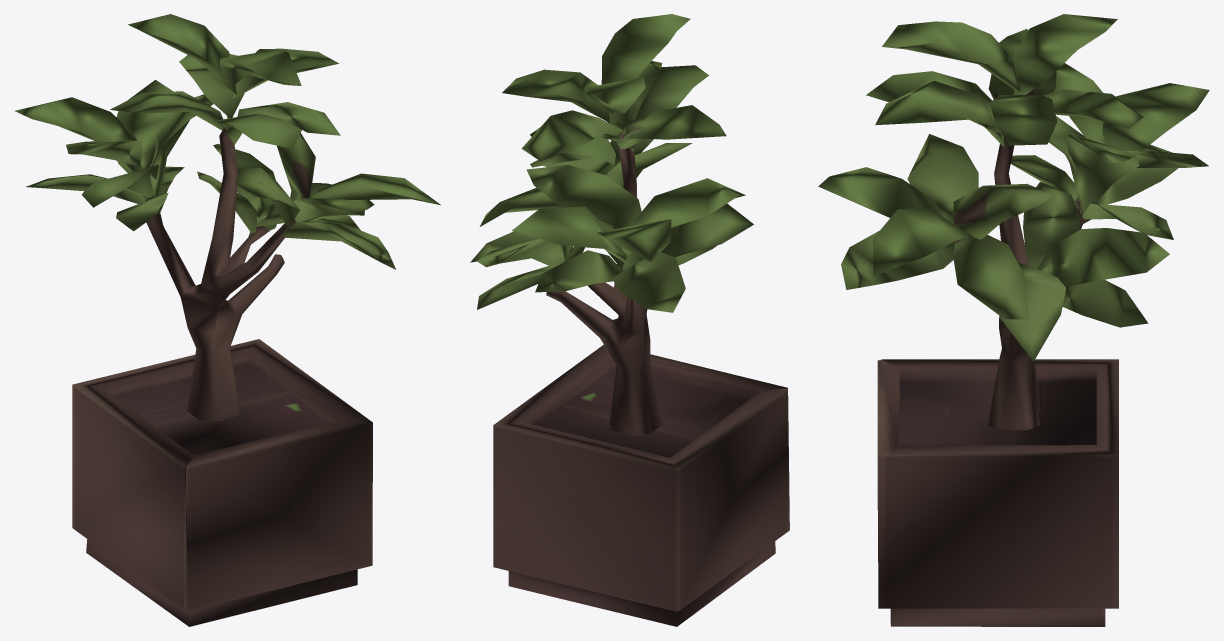
Rendered from lobby_planter.fbx.
3 renders of one model, left to right at view 1: azimuth 30°, elevation 25°; view 2: azimuth 150°, elevation 25°; view 3: azimuth 270°, elevation 25°, orthographic. The views are drawn at different scales.
Parts seen in each view (by area): view 1: Mesh_0; view 2: Mesh_0; view 3: Mesh_0.
Part boxes in pixels (x1,y1,x2,y2): Mesh_0: (15,14,440,626); Mesh_0: (470,14,789,626); Mesh_0: (818,14,1209,626).
Size of the model in its own units: 54.69 by 95.07 by 60.21.
1 material, 1 textured.
